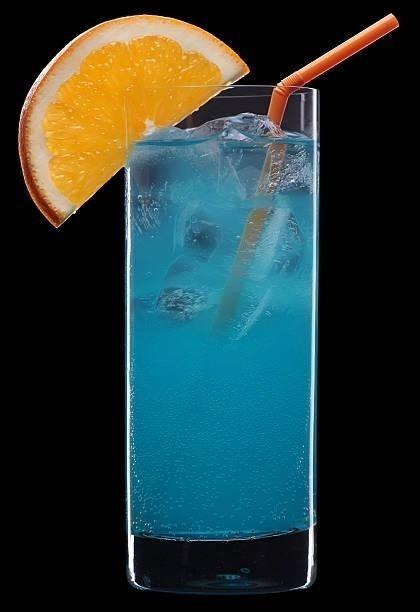glass-normal: (119, 78, 325, 598)
